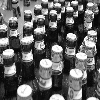beer: (19, 38, 36, 81)
